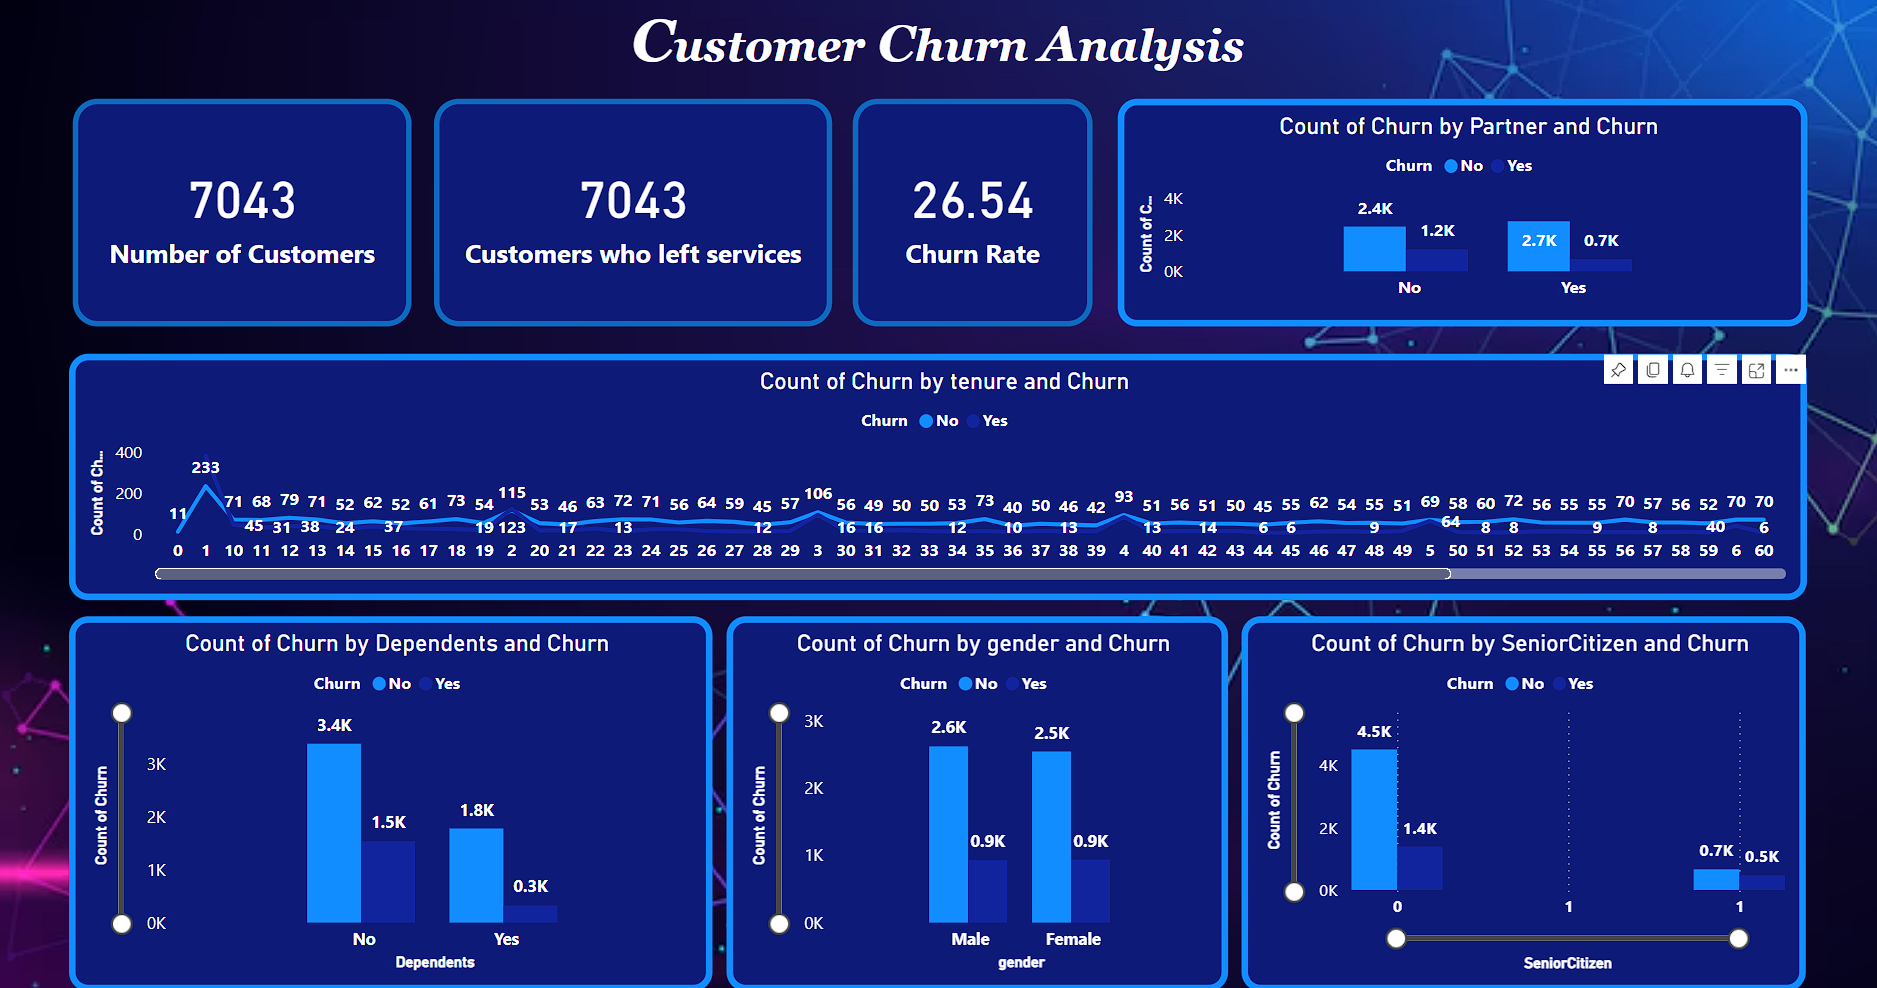

This screenshot's page, from the dashboard's own definition file:
{"tool":"powerbi","page":{"name":"Page 1","canvas":[1280,720],"ordinal":0},"visuals":[{"type":"textbox","box":[7.5,0,1263.9,72.1],"z":0},{"type":"card","fields":{"Values":["CountNonNull(Cutomer_churn_analysis.Customer ID)"]},"box":[10,72.1,246.3,165.4],"z":1000},{"type":"card","fields":{"Values":["CountNonNull(Cutomer_churn_analysis.Churn)"]},"box":[272.4,72.1,289.8,165.4],"z":2000},{"type":"card","fields":{"Values":["Cutomer_churn_analysis.Churn Rate"]},"box":[577.2,72.1,174.2,165.4],"z":3000},{"type":"clusteredColumnChart","fields":{"Category":["Cutomer_churn_analysis.Dependents"],"Y":["CountNonNull(Cutomer_churn_analysis.Churn)"],"Series":["Cutomer_churn_analysis.Churn"]},"box":[7.5,447.8,467.7,272.4],"z":4000},{"type":"clusteredColumnChart","fields":{"Category":["Cutomer_churn_analysis.gender"],"Y":["CountNonNull(Cutomer_churn_analysis.Churn)"],"Series":["Cutomer_churn_analysis.Churn"]},"box":[485.1,447.8,364.5,272.4],"z":5000},{"type":"clusteredColumnChart","fields":{"Category":["Cutomer_churn_analysis.Partner"],"Y":["CountNonNull(Cutomer_churn_analysis.Churn)"],"Series":["Cutomer_churn_analysis.Churn"]},"box":[770,72.1,501.3,165.4],"z":6000},{"type":"lineChart","fields":{"Category":["Cutomer_churn_analysis.tenure"],"Y":["CountNonNull(Cutomer_churn_analysis.Churn)"],"Series":["Cutomer_churn_analysis.Churn"]},"box":[7.5,257.5,1263.9,179.1],"z":7000},{"type":"clusteredColumnChart","fields":{"Category":["Cutomer_churn_analysis.SeniorCitizen"],"Y":["CountNonNull(Cutomer_churn_analysis.Churn)"],"Series":["Cutomer_churn_analysis.Churn"]},"box":[859.6,447.8,410.5,272.4],"z":8000}]}

Visuals, with their boxes on the page's 1280x720 design canvas (x1, y1, x2, y2). These are canvas units, not pixel positions in the 1877x988 screenshot, which may show the page scaled, cropped or inside an application window:
textbox: [x1=8, y1=0, x2=1271, y2=72]
card - CountNonNull(Cutomer_churn_analysis.Customer ID): [x1=10, y1=72, x2=256, y2=238]
card - CountNonNull(Cutomer_churn_analysis.Churn): [x1=272, y1=72, x2=562, y2=238]
card - Cutomer_churn_analysis.Churn Rate: [x1=577, y1=72, x2=751, y2=238]
clusteredColumnChart - Cutomer_churn_analysis.Dependents x CountNonNull(Cutomer_churn_analysis.Churn): [x1=8, y1=448, x2=475, y2=720]
clusteredColumnChart - Cutomer_churn_analysis.gender x CountNonNull(Cutomer_churn_analysis.Churn): [x1=485, y1=448, x2=850, y2=720]
clusteredColumnChart - Cutomer_churn_analysis.Partner x CountNonNull(Cutomer_churn_analysis.Churn): [x1=770, y1=72, x2=1271, y2=238]
lineChart - Cutomer_churn_analysis.tenure x CountNonNull(Cutomer_churn_analysis.Churn): [x1=8, y1=258, x2=1271, y2=437]
clusteredColumnChart - Cutomer_churn_analysis.SeniorCitizen x CountNonNull(Cutomer_churn_analysis.Churn): [x1=860, y1=448, x2=1270, y2=720]
